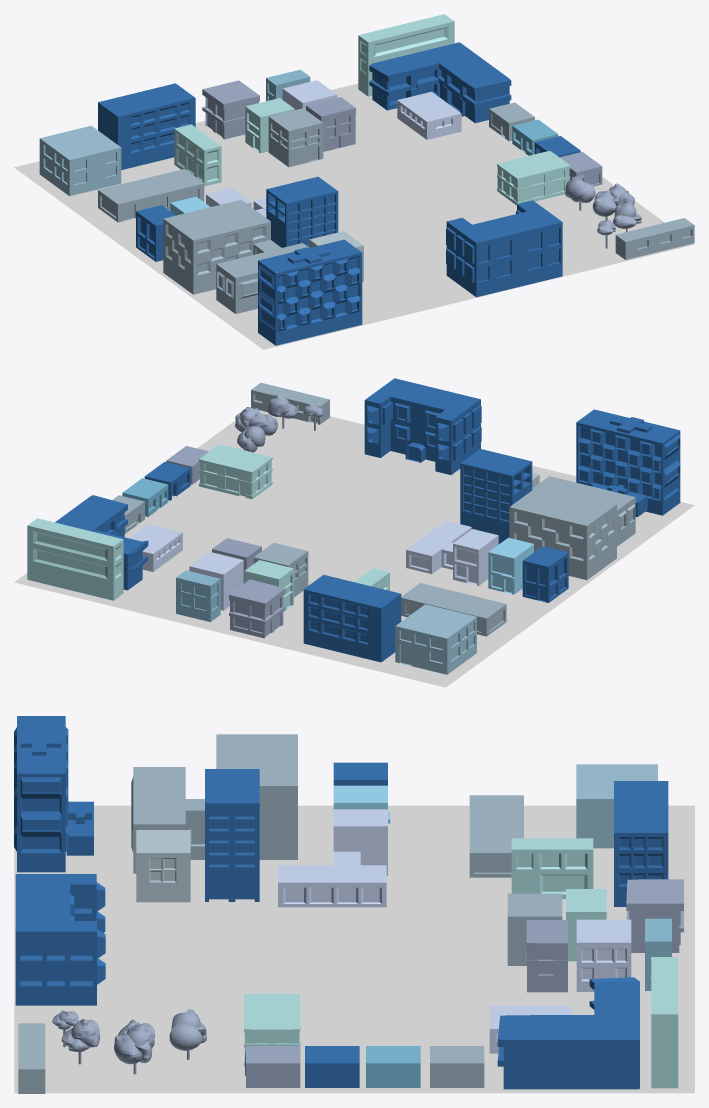
Rendered from city.fbx.
3 renders of one model, top to bottom at view 1: azimuth 30°, elevation 25°; view 2: azimuth 150°, elevation 25°; view 3: azimuth 270°, elevation 25°, orthographic. The views are drawn at different scales.
Visible parts, largest first — view 1: Plane, Cube.025, Cube.026, Cube.008, Cube.003, Cube.004, Cube.029, Cube.012, Cube.011, Cube.010, Cube.002, Cube.021 (+17 smaller); view 2: Plane, Cube.026, Cube.025, Cube.008, Cube.003, Cube.010, Cube.029, Cube.004, Cube.021, Cube.023, Cube.002, Cube.015 (+19 smaller); view 3: Plane, Cube.026, Cube.012, Cube.025, Cube.029, Cube.008, Cube.003, Cube.013, Cube.006, Cube.002, Cube.033, Cube.004 (+24 smaller).
Boxes of the visible parts, <box> form: Plane: <box>14,83,694,349</box>; Cube.025: <box>258,239,362,345</box>; Cube.026: <box>446,200,562,297</box>; Cube.008: <box>163,200,270,294</box>; Cube.003: <box>98,83,195,169</box>; Cube.004: <box>39,125,121,196</box>; Cube.029: <box>266,176,338,247</box>; Cube.012: <box>425,42,511,123</box>; Cube.011: <box>369,42,472,110</box>; Cube.010: <box>358,14,454,96</box>; Cube.002: <box>98,169,204,222</box>; Cube.021: <box>497,151,570,205</box>; Plane: <box>14,408,694,687</box>; Cube.026: <box>364,378,481,474</box>; Cube.025: <box>576,409,680,515</box>; Cube.008: <box>509,485,616,580</box>; Cube.003: <box>303,574,401,662</box>; Cube.010: <box>27,518,123,600</box>; Cube.029: <box>460,449,532,544</box>; Cube.004: <box>395,604,476,674</box>; Cube.021: <box>199,444,272,499</box>; Cube.023: <box>229,579,285,638</box>; Cube.002: <box>401,583,506,636</box>; Cube.015: <box>522,546,568,602</box>; Plane: <box>14,805,694,1093</box>; Cube.026: <box>15,874,105,1005</box>; Cube.012: <box>497,1015,639,1089</box>; Cube.025: <box>14,716,68,872</box>; Cube.029: <box>205,769,259,901</box>; Cube.008: <box>216,734,297,859</box>; Cube.003: <box>614,781,668,906</box>; Cube.013: <box>278,865,386,907</box>; Cube.006: <box>511,838,593,898</box>; Cube.002: <box>469,795,523,877</box>; Cube.033: <box>136,830,190,902</box>; Cube.004: <box>576,764,657,848</box>.
Bounding box in the file's own units: 2506 × 418 × 2502.
